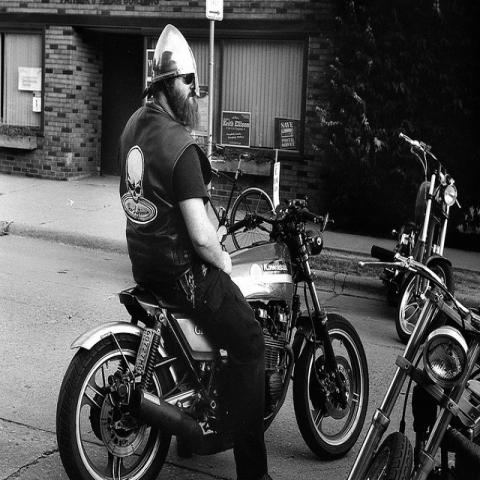motorcycle: (54, 200, 370, 474), (349, 224, 479, 476), (380, 134, 459, 341)
